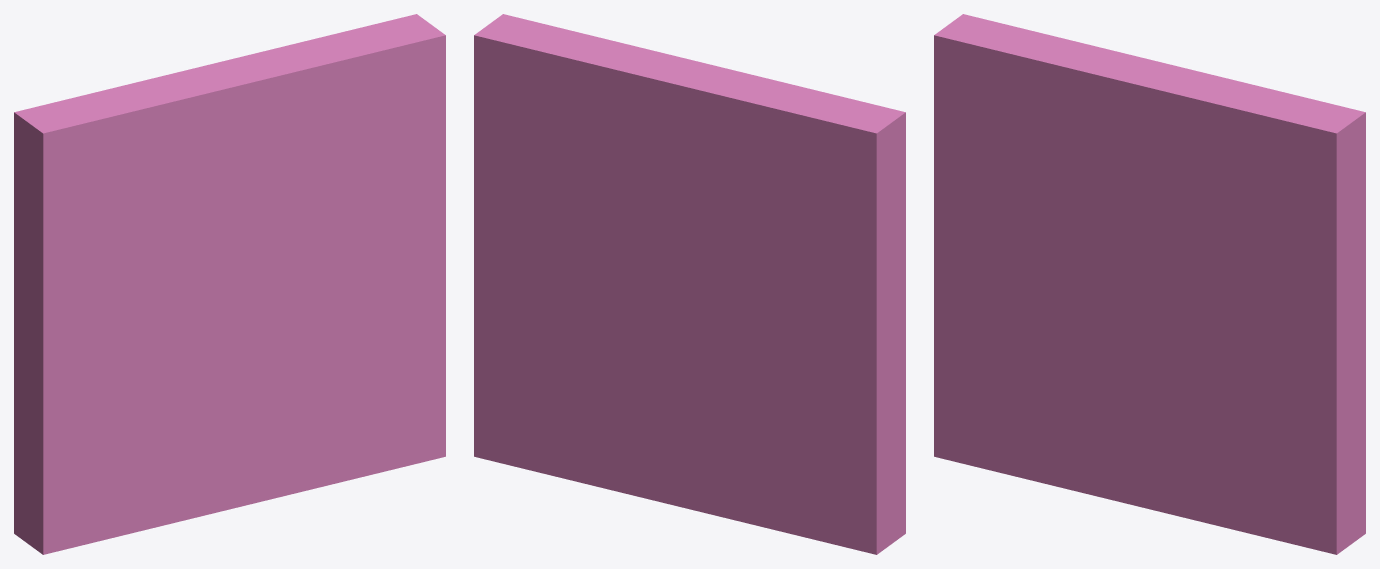
The picture shows the model from 3 angles, left to right: view 1: azimuth 30°, elevation 25°; view 2: azimuth 150°, elevation 25°; view 3: azimuth 330°, elevation 25°; orthographic projection.
Size of the model in its own units: 8 by 8 by 1.
